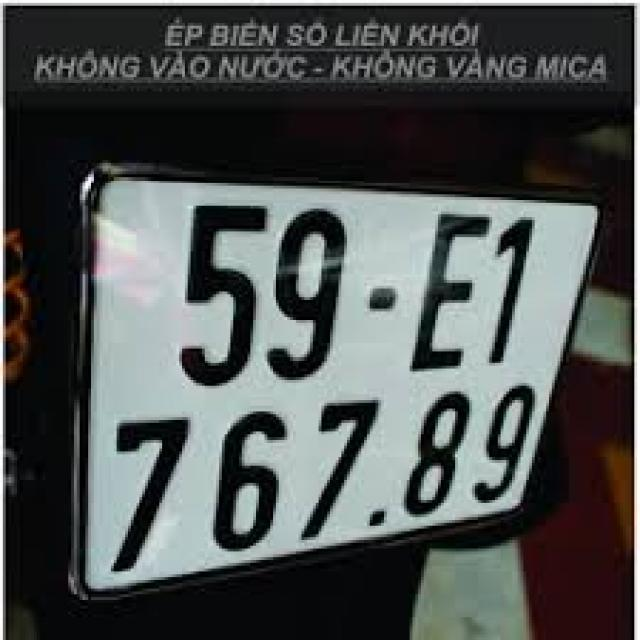1: (486, 214, 540, 366)
5: (176, 197, 264, 389)
6: (208, 408, 288, 552)
7: (105, 412, 191, 574), (296, 397, 378, 540)
8: (398, 388, 469, 520)
9: (267, 203, 347, 383), (472, 380, 535, 506)
E: (409, 212, 484, 368)
